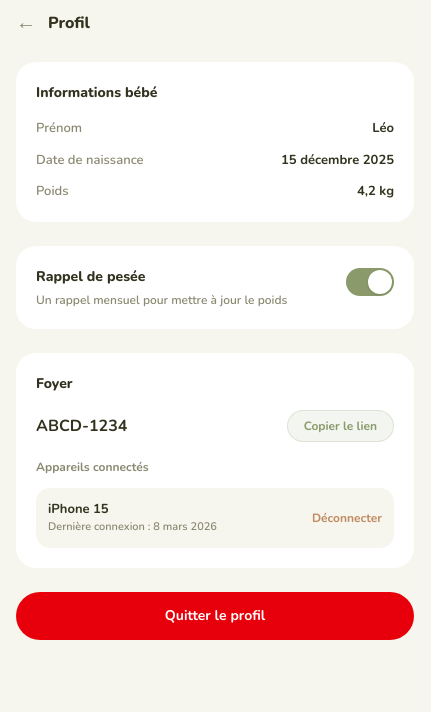
Test: ProfileScreen › tap poids → scroll wheels visibles
What coordinates should you click on to do the following:
click the button "4,2 kg"
I would click on:
 (376, 192)
Its box is [357, 182, 394, 202].
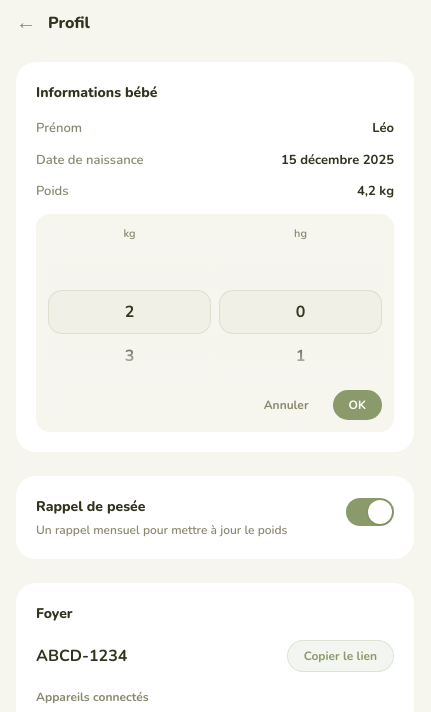
Now the button "OK" is shown, box [333, 390, 382, 420]
Now the button "Annuler" is shown, box [248, 390, 325, 420]
